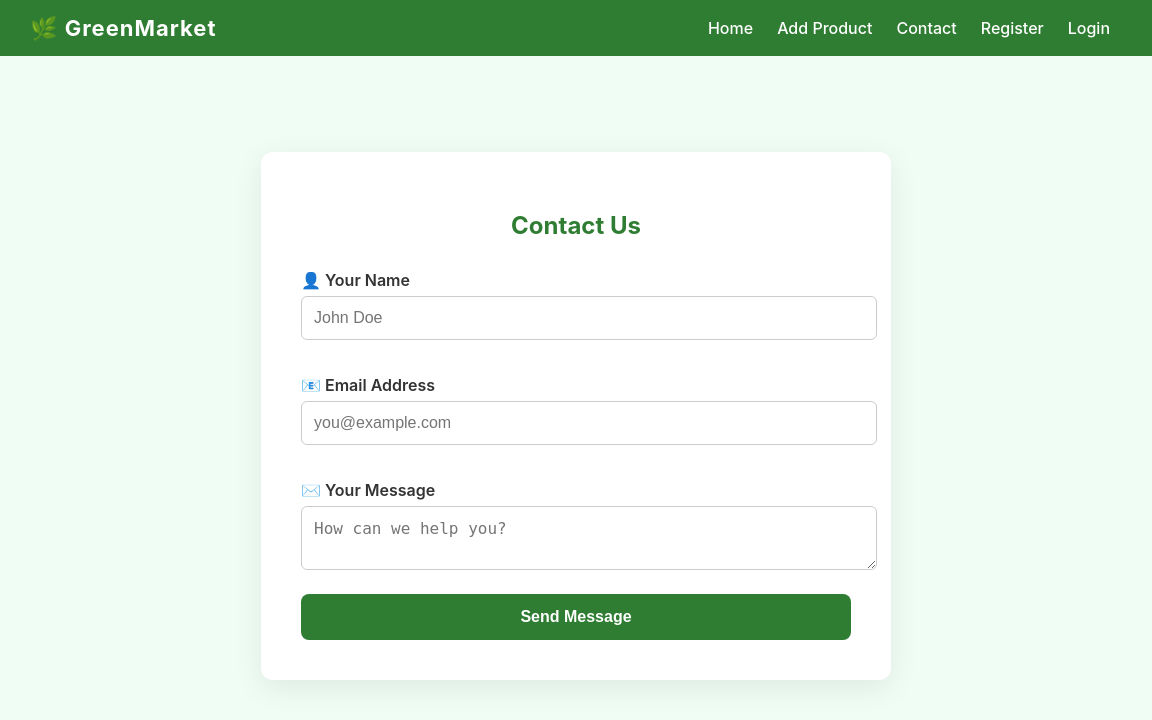
Scenario: Contact Form Tests › Should show validation error for invalid name
# Fill name with only 1 character (invalid)
Step 1. Type "A" into the field named "name" → [589, 319], box [301,297,877,341]
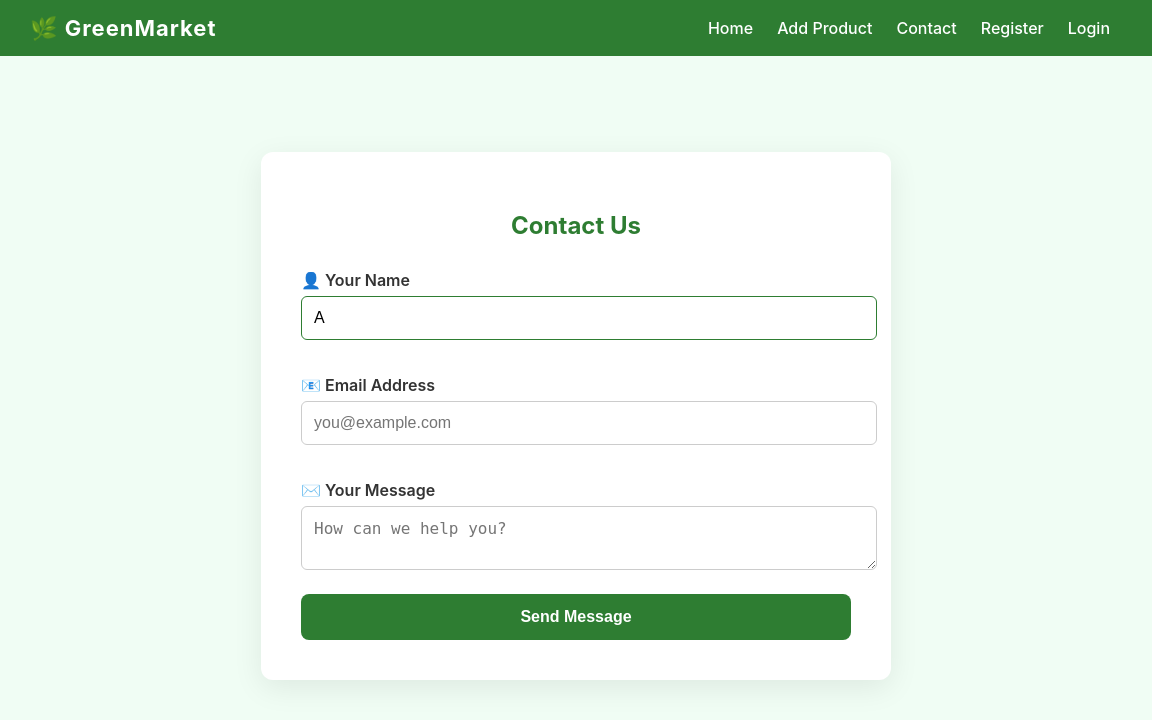
# Fill valid email and message
Step 2. Type "testuser@test.com" into the field named "email" → [589, 424], box [301,402,877,446]
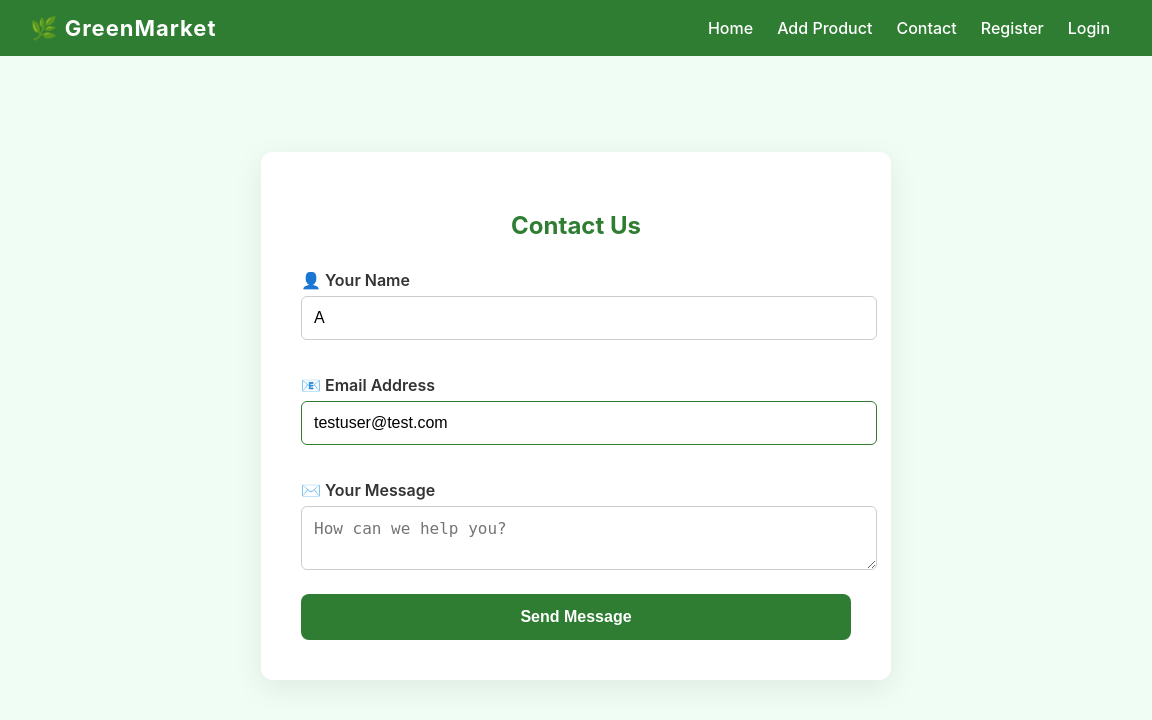
Step 3. Type "This is a valid message." into the text box named "message" → [589, 539], box [301,507,877,571]
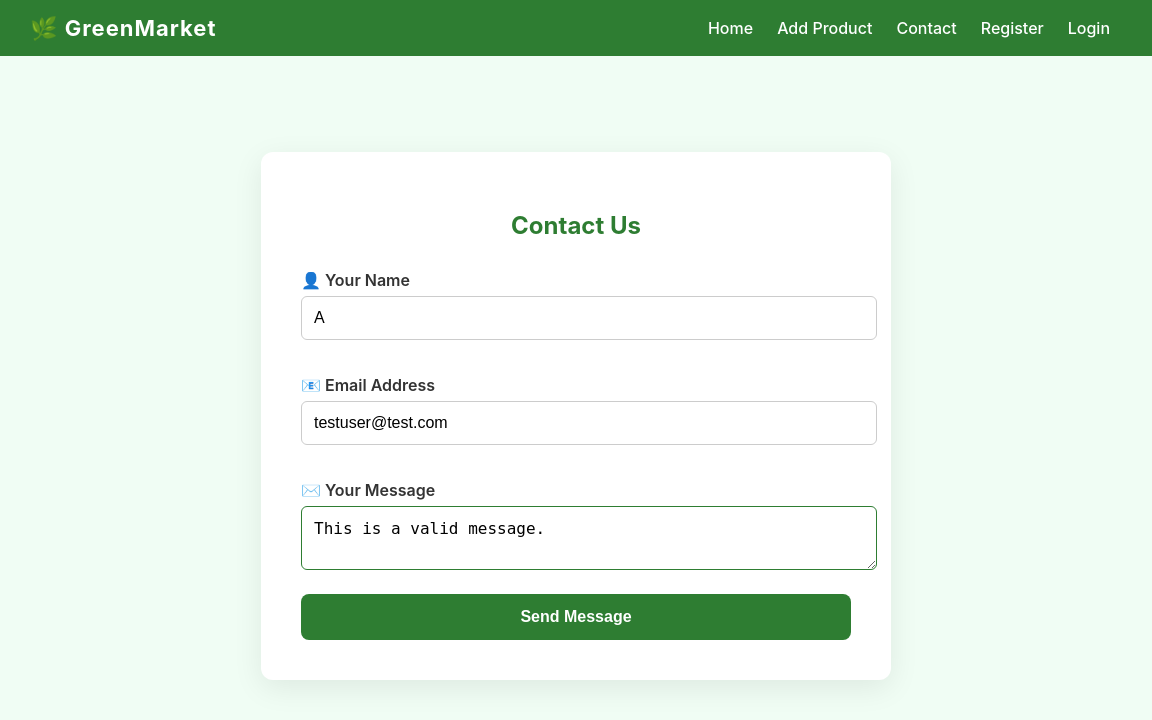
# Submit the form
Step 4. Click the submit button → [576, 618], box [301,595,851,641]
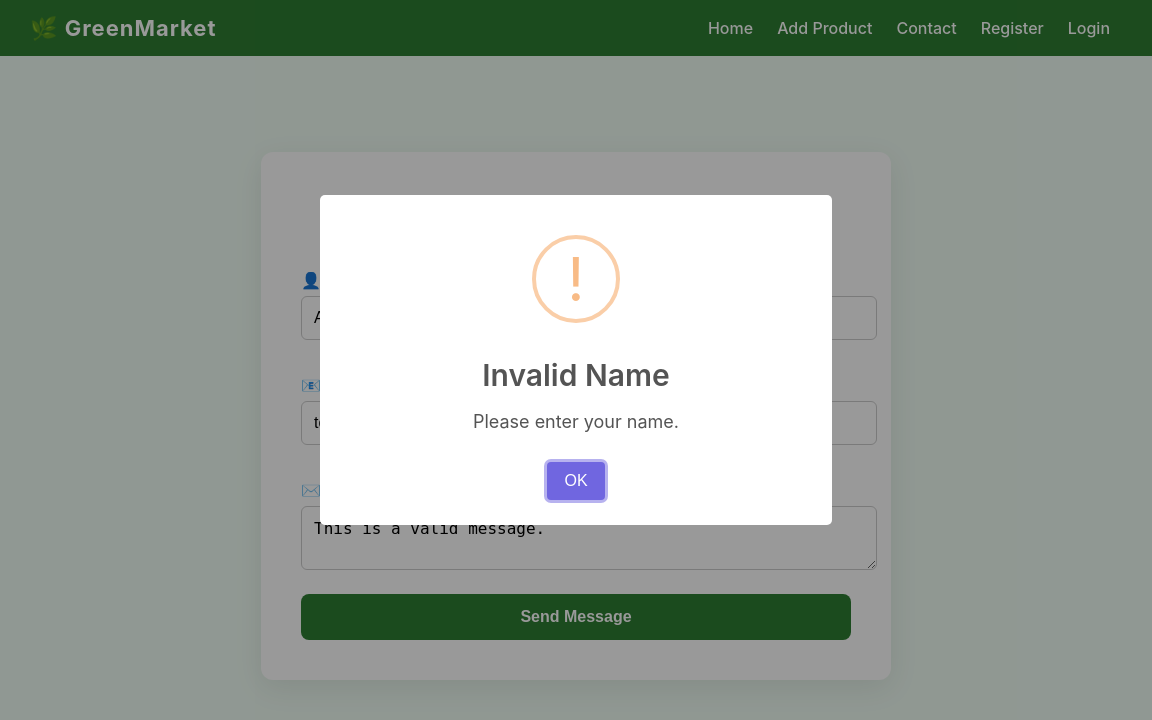
Check: the heading with class "swal2-title" reads "Invalid Name", box [482,357,670,393]
